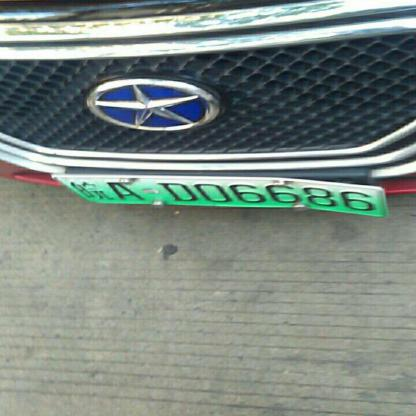lp: (53, 176, 93, 217)
